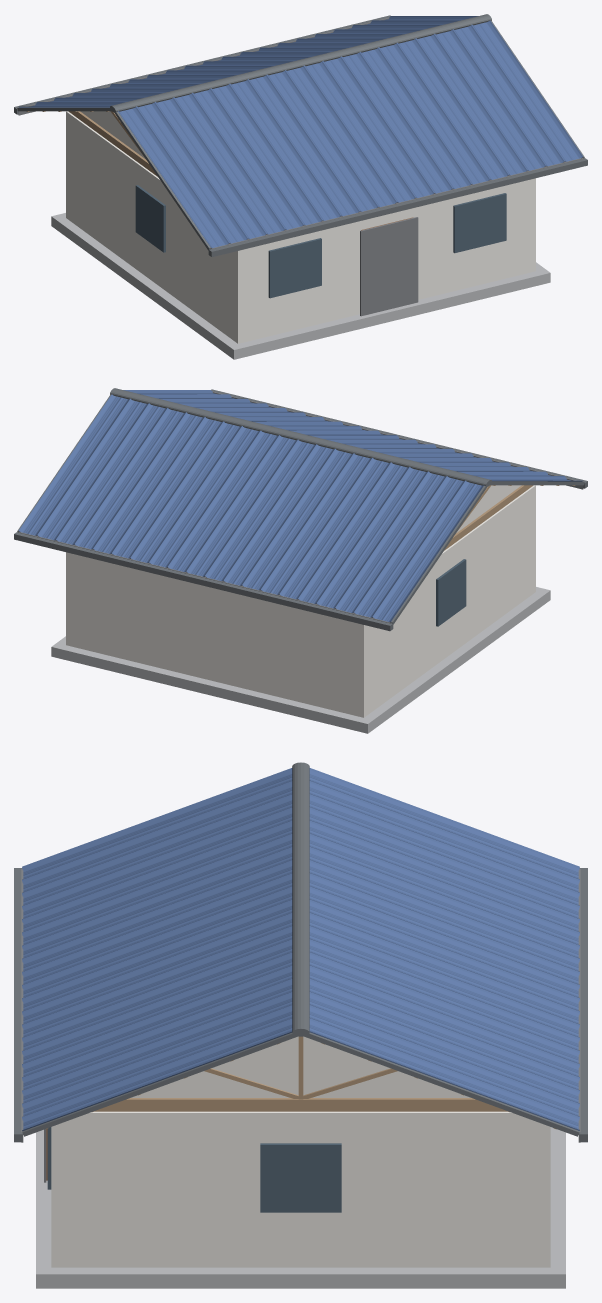
Rendered from Mega_S_Rib_Single_Storey_8x8.glb.
3 renders of one model, top to bottom at view 1: azimuth 30°, elevation 25°; view 2: azimuth 150°, elevation 25°; view 3: azimuth 270°, elevation 25°, orthographic. The views are drawn at different scales.
Parts seen in each view (by area): view 1: GroundFloor_Walls, Foundation, Door_Frame, Gutter_Front, Ridge_Cap, RoofSheet_01, RoofSheet_05, RoofSheet_09, RoofSheet_13, RoofSheet_17, RoofSheet_19, RoofSheet_02 (+26 smaller); view 2: GroundFloor_Walls, Foundation, Gutter_Back, Ridge_Cap, RoofSheet_21, RoofSheet_25, RoofSheet_39, RoofSheet_28, RoofSheet_29, RoofSheet_30, RoofSheet_37, RoofSheet_26 (+23 smaller); view 3: GroundFloor_Walls, Foundation, Gable_Wall_Right, Window_Side_Right, Ridge_Cap, Truss_TieBeam_6, RoofSheet_20, RoofSheet_40, RoofSheet_10, RoofSheet_30, RoofSheet_08, RoofSheet_12 (+41 smaller).
Boxes of the visible parts, box(x1,y1,x2,y2) form: GroundFloor_Walls: box(66, 111, 535, 343); Foundation: box(51, 213, 550, 359); Door_Frame: box(360, 217, 418, 316); Gutter_Front: box(208, 158, 587, 257); Ridge_Cap: box(110, 14, 491, 112); RoofSheet_01: box(118, 106, 229, 247); RoofSheet_05: box(192, 88, 303, 229); RoofSheet_09: box(267, 70, 378, 211); RoofSheet_13: box(341, 52, 452, 193); RoofSheet_17: box(416, 34, 527, 175); RoofSheet_19: box(453, 25, 564, 166); RoofSheet_02: box(136, 102, 247, 243); GroundFloor_Walls: box(66, 485, 535, 717); Foundation: box(51, 587, 550, 733); Gutter_Back: box(14, 532, 393, 631); Ridge_Cap: box(110, 388, 491, 486); RoofSheet_21: box(372, 480, 483, 621); RoofSheet_25: box(298, 462, 409, 603); RoofSheet_39: box(37, 399, 148, 540); RoofSheet_28: box(242, 449, 353, 590); RoofSheet_29: box(223, 444, 334, 585); RoofSheet_30: box(205, 439, 316, 581); RoofSheet_37: box(74, 408, 185, 549); RoofSheet_26: box(279, 458, 390, 599); GroundFloor_Walls: box(51, 1111, 550, 1267); Foundation: box(36, 1127, 565, 1288); Gable_Wall_Right: box(131, 1036, 470, 1097); Window_Side_Right: box(260, 1143, 341, 1212); Ridge_Cap: box(292, 762, 309, 1036); Truss_TieBeam_6: box(103, 1098, 498, 1108); RoofSheet_20: box(22, 1018, 292, 1130); RoofSheet_40: box(309, 1018, 579, 1130); RoofSheet_10: box(22, 886, 292, 998); RoofSheet_30: box(309, 886, 579, 998); RoofSheet_08: box(22, 860, 292, 971); RoofSheet_12: box(22, 913, 292, 1024).
Size of the model in its own units: 10.1 by 4.97 by 9.2.
